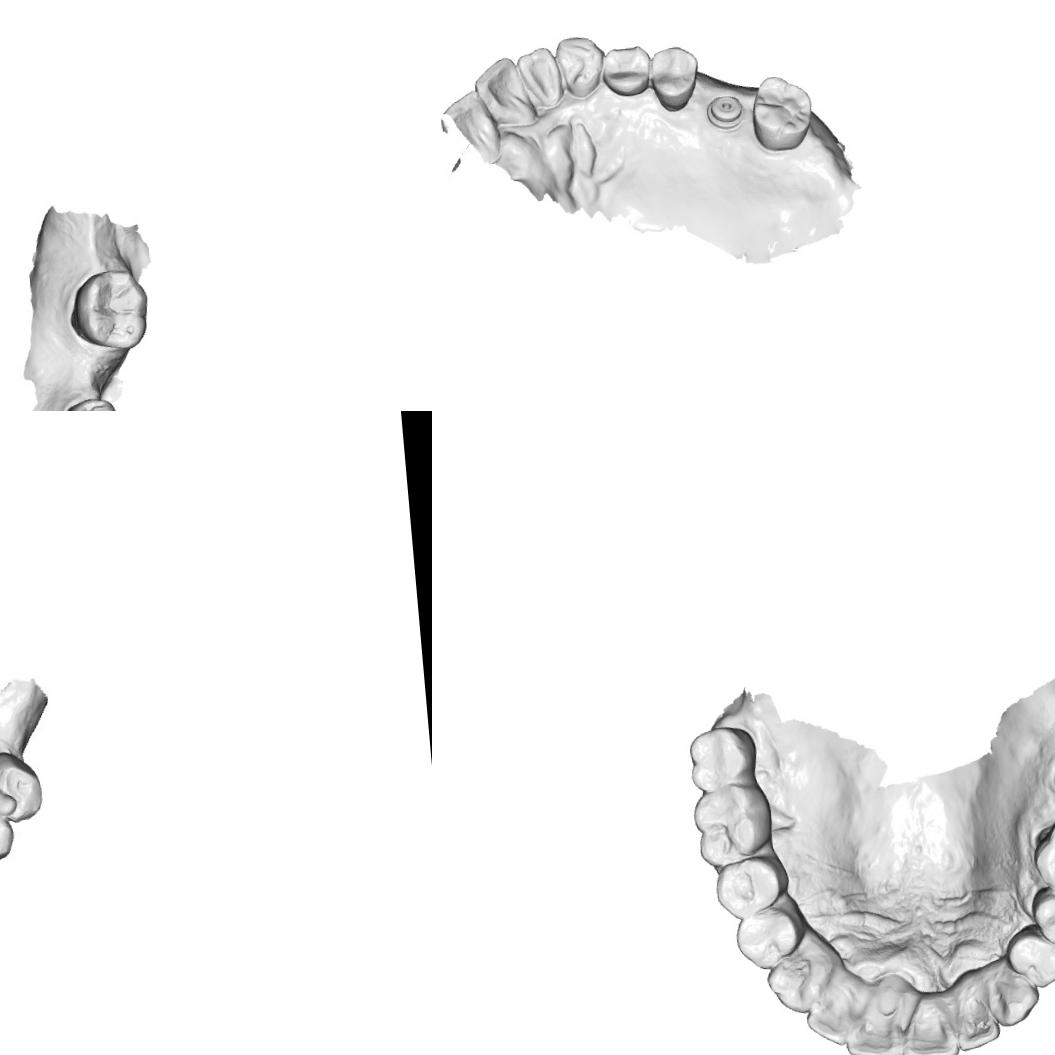canine: (762, 931, 839, 1016), (980, 952, 1042, 1028), (551, 31, 608, 102), (0, 790, 16, 867)
implant: (702, 88, 748, 132)
incisor: (800, 965, 868, 1050), (434, 86, 504, 168), (469, 52, 534, 132), (895, 991, 962, 1055), (512, 42, 564, 114), (952, 985, 1002, 1052), (843, 1007, 907, 1055)
molar: (66, 264, 152, 354), (690, 780, 776, 870), (746, 69, 816, 155), (686, 722, 760, 795), (1028, 812, 1055, 911)
premolar: (730, 897, 809, 972), (709, 852, 791, 920), (645, 42, 704, 114), (0, 747, 47, 828), (1002, 920, 1055, 990), (599, 40, 653, 100), (1028, 881, 1055, 950), (62, 393, 118, 411)
